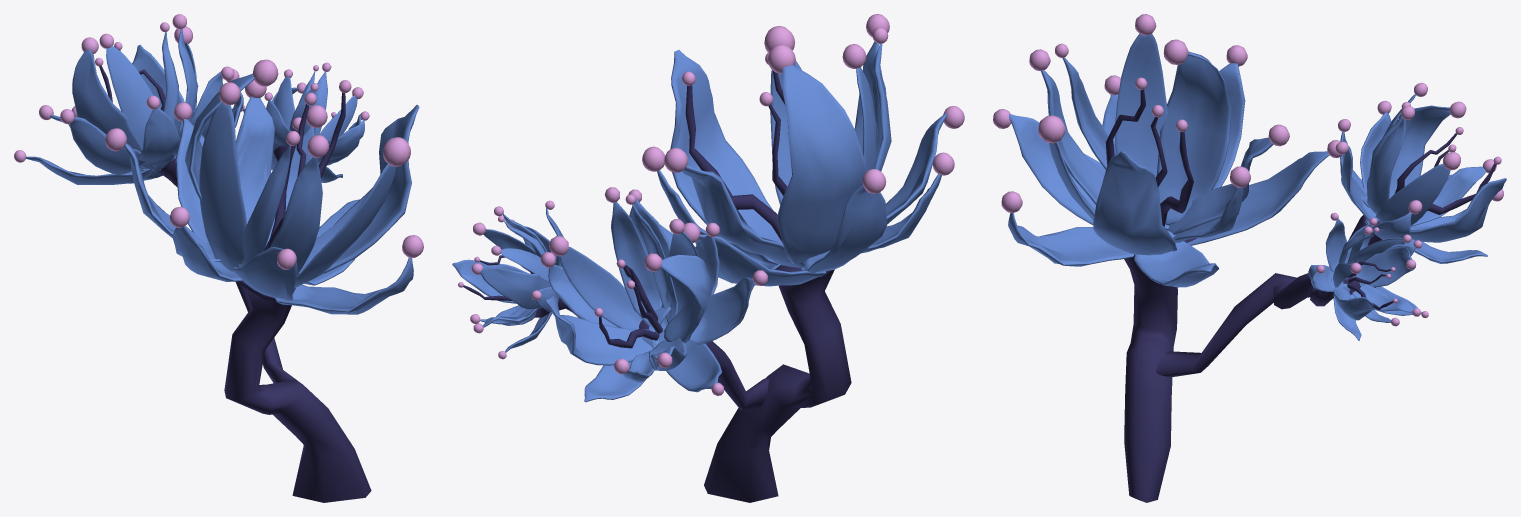
Rendered from Bollenbloem_3.fbx.
3 renders of one model, left to right at view 1: azimuth 30°, elevation 25°; view 2: azimuth 150°, elevation 25°; view 3: azimuth 270°, elevation 25°, orthographic. The views are drawn at different scales.
Parts seen in each view (by area): view 1: polySurface44; view 2: polySurface44; view 3: polySurface44.
Part boxes in pixels (x1,y1,x2,y2): polySurface44: (14, 14, 423, 502); polySurface44: (452, 14, 964, 502); polySurface44: (993, 14, 1506, 502).
Bounding box in the file's own units: 0.0708 × 0.091 × 0.0998.
